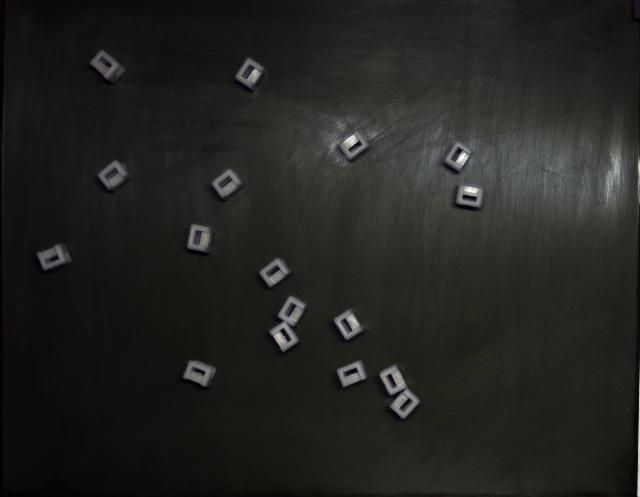fourth_side: (90, 50, 125, 84), (98, 160, 134, 191), (211, 169, 245, 200), (235, 58, 266, 91), (259, 259, 292, 288), (36, 244, 71, 271), (334, 309, 364, 340), (379, 364, 408, 396), (182, 361, 216, 388), (278, 296, 308, 326), (390, 389, 420, 419), (339, 131, 369, 160), (270, 322, 299, 352), (444, 141, 472, 172), (336, 361, 368, 388), (188, 224, 215, 254), (456, 185, 484, 208)
